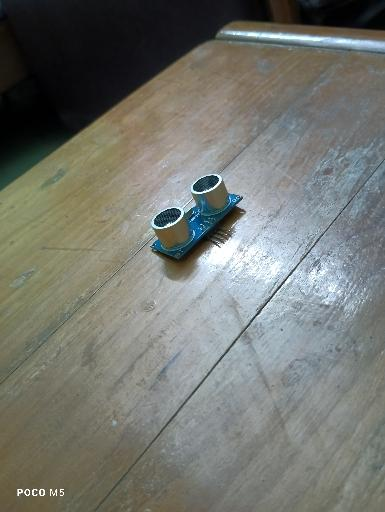sensor: (151, 173, 245, 261)
